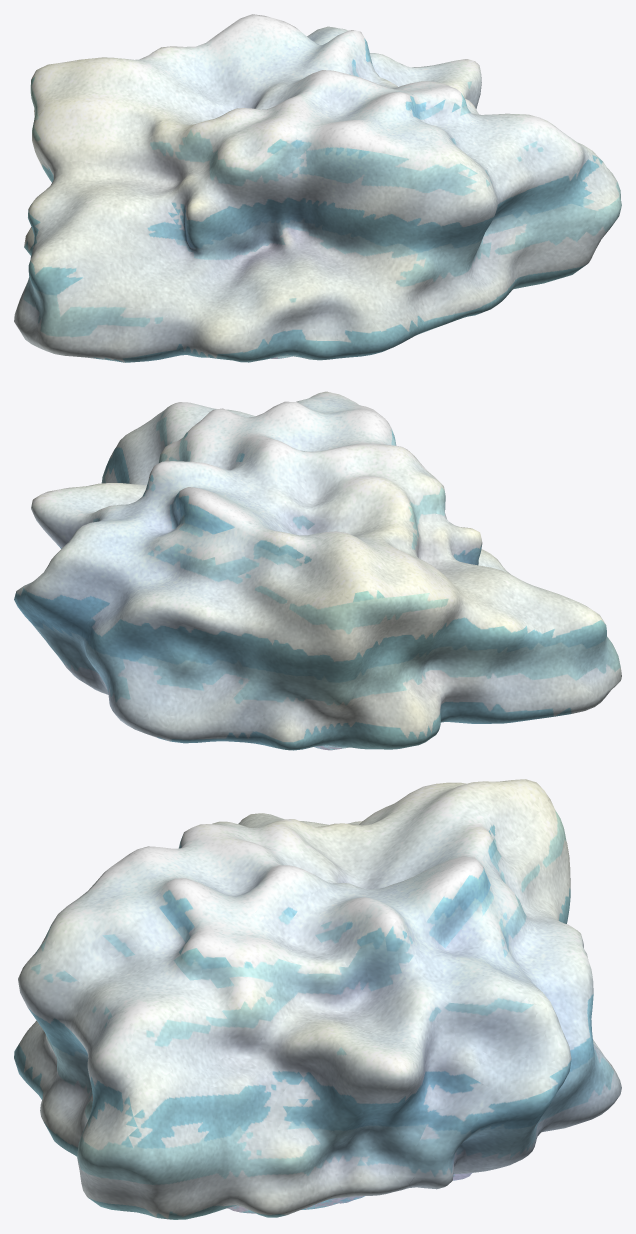
Rendered from WM_RockSnow_B.fbx.
The picture shows the model from 3 angles, top to bottom: view 1: azimuth 30°, elevation 25°; view 2: azimuth 150°, elevation 25°; view 3: azimuth 270°, elevation 25°; orthographic projection. The views are drawn at different scales.
Visible parts, largest first — view 1: WM_RockSnow_B_LOD0; view 2: WM_RockSnow_B_LOD0; view 3: WM_RockSnow_B_LOD0.
Boxes of the visible parts, <box> form: WM_RockSnow_B_LOD0: <box>14,14,621,362</box>; WM_RockSnow_B_LOD0: <box>14,391,621,750</box>; WM_RockSnow_B_LOD0: <box>14,779,621,1219</box>.
Size of what is drawn, in the model's own units: 2.07 by 0.7767 by 1.62.
